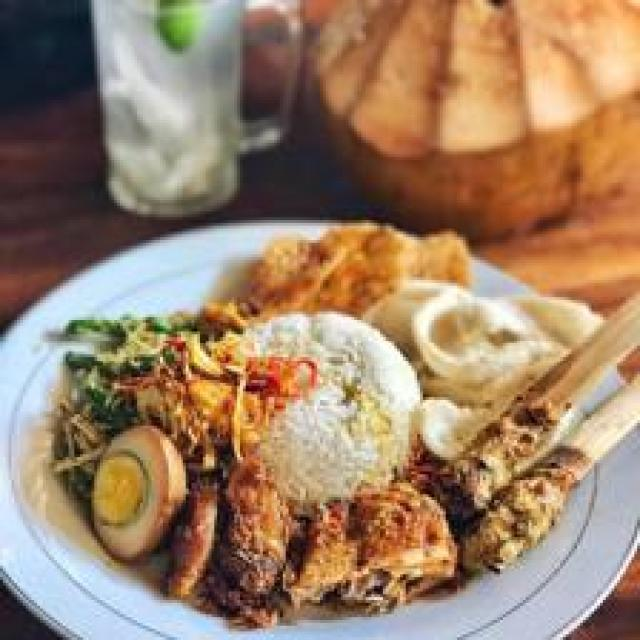Wet Waste: (214, 316, 432, 516)
